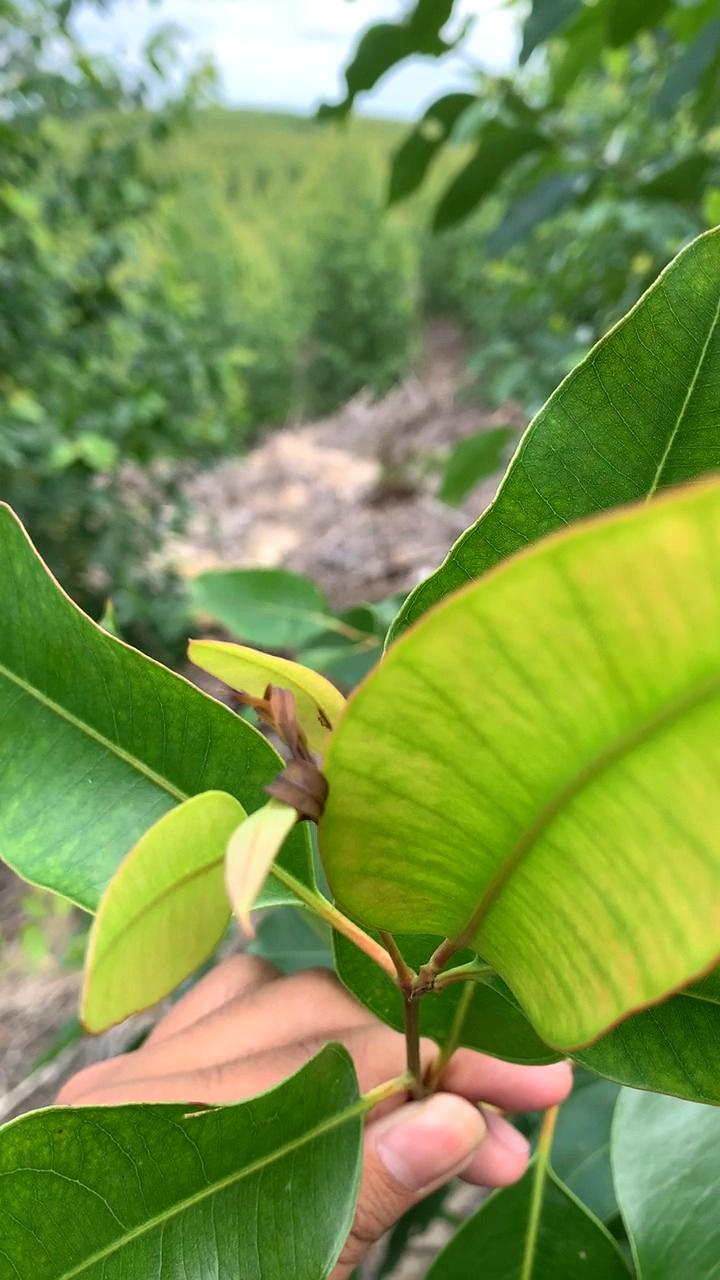Helopeltis-Withered Sprout: (226, 680, 336, 824)
